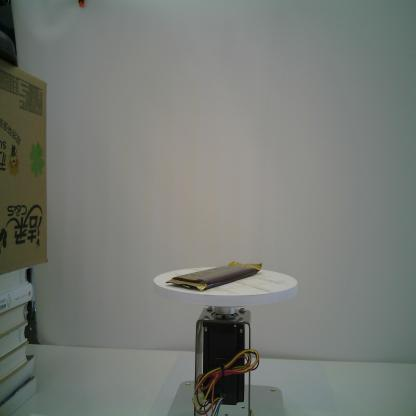Chocolate: (164, 259, 262, 293)
